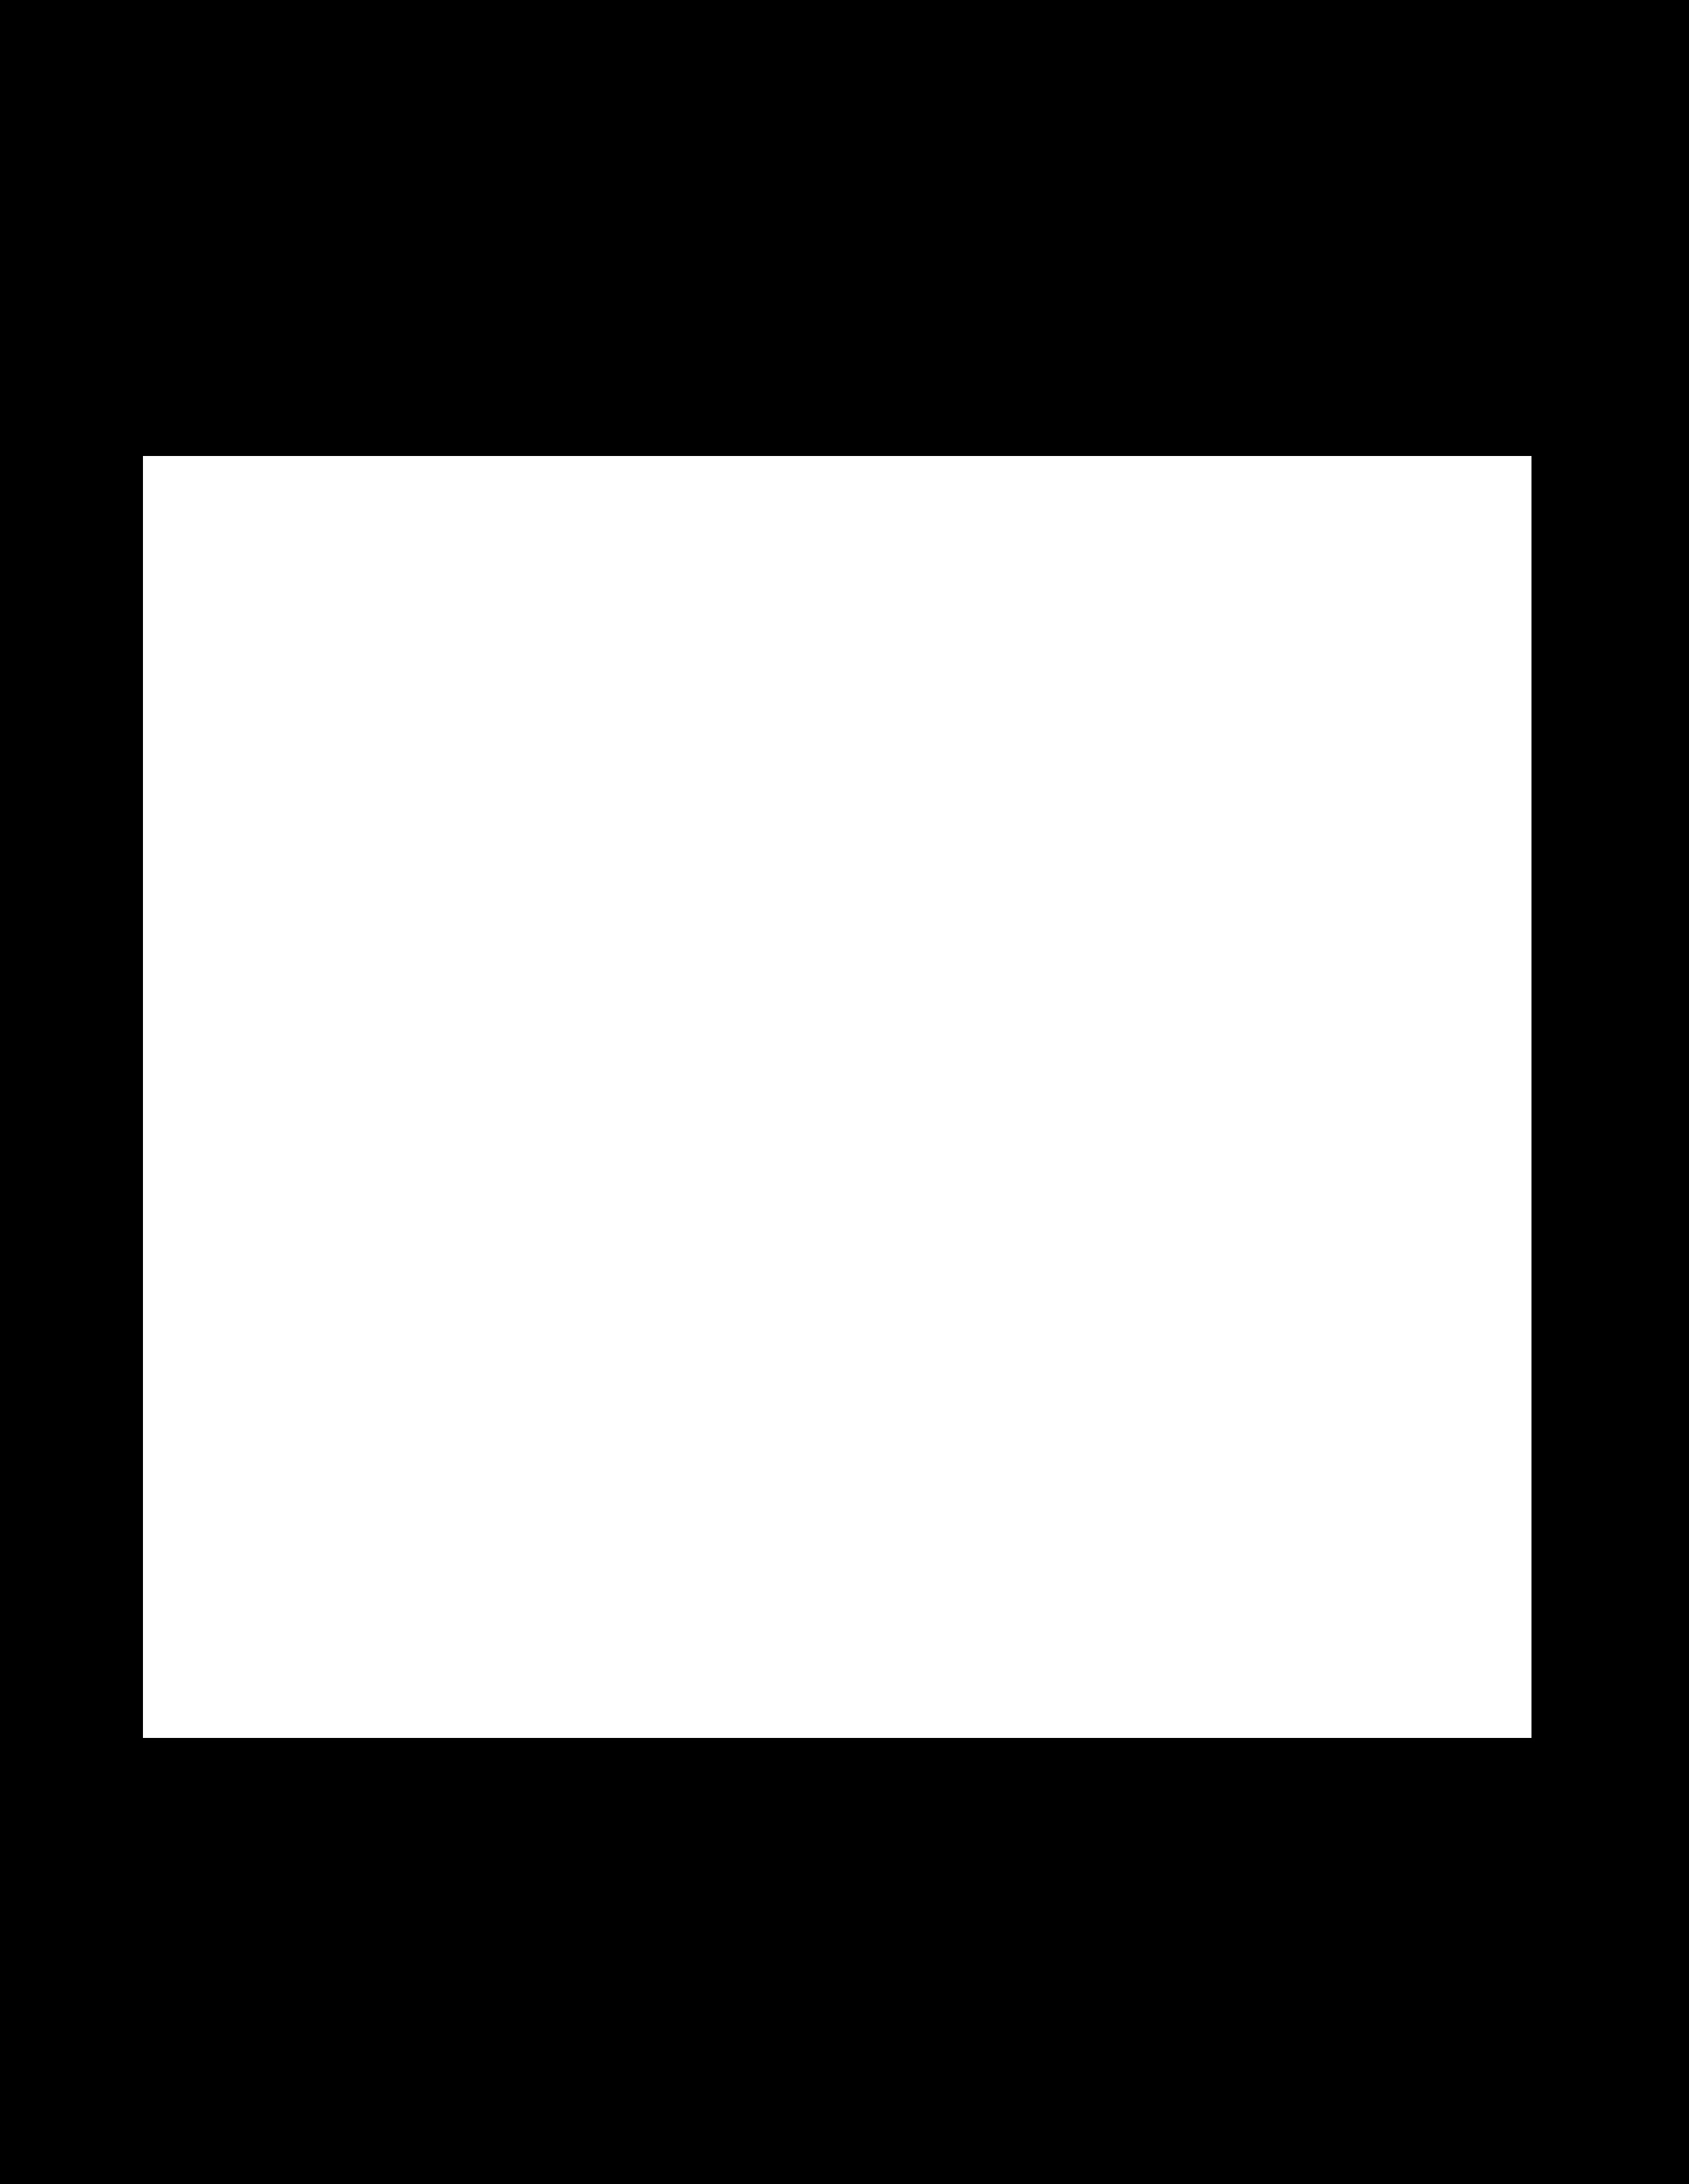table: (144, 456, 1531, 1737)
